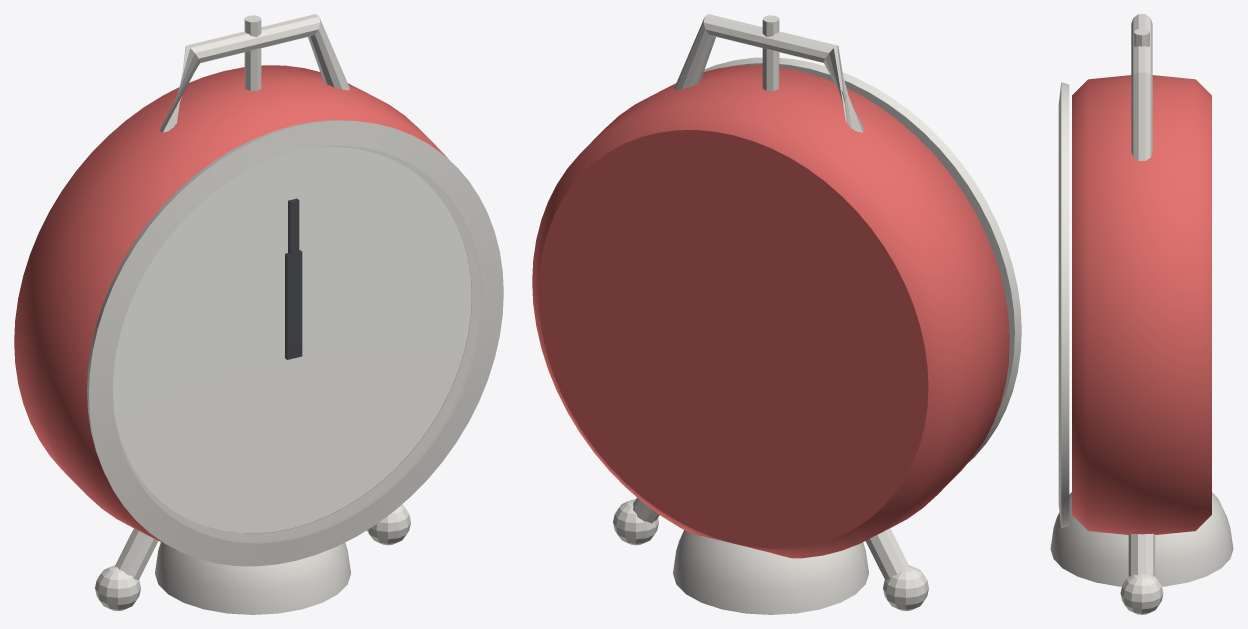
File: clock.glb
3 views of the same model, side by side, from view 1: azimuth 30°, elevation 25°; view 2: azimuth 150°, elevation 25°; view 3: azimuth 270°, elevation 25° (orthographic). The views are drawn at different scales.
Visible parts, largest first — view 1: ClockGlass, ClockFace, Clock, HandHour, HandMinute; view 2: Clock; view 3: Clock.
Part boxes in pixels (x1,y1,x2,y2): ClockGlass: [113, 146, 479, 540]; ClockFace: [112, 147, 471, 533]; Clock: [14, 14, 503, 614]; HandHour: [285, 250, 302, 359]; HandMinute: [288, 198, 299, 357]; Clock: [532, 14, 1021, 614]; Clock: [1050, 14, 1233, 614].
Bounding box in the file's own units: 0.86 × 1.06 × 0.34.
